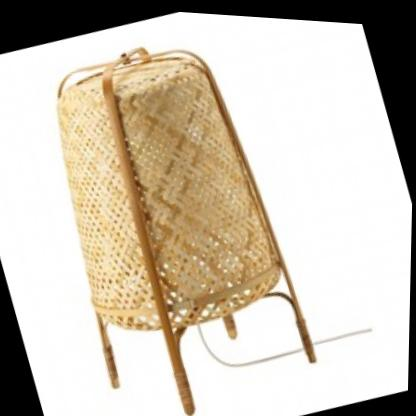Lamp: (0, 0, 351, 416)
